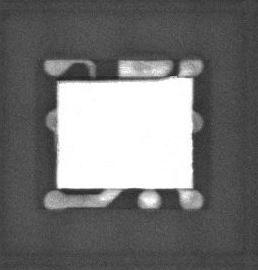DIE_BROKEN: (57, 74, 175, 83)
